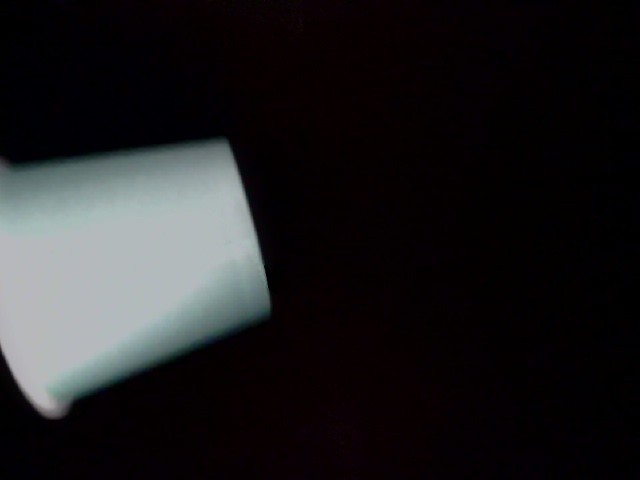CYLJ: (240, 68, 356, 172)
